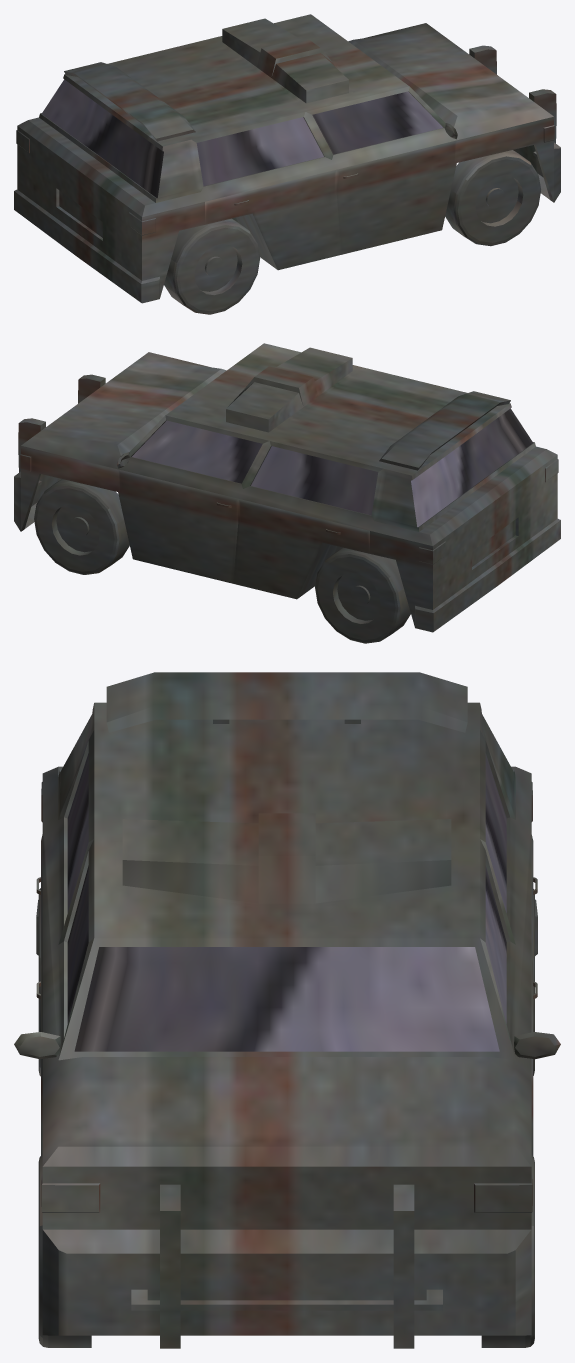
Rendered from Jeep.fbx.
3 views of the same model, one above another, from view 1: azimuth 30°, elevation 25°; view 2: azimuth 150°, elevation 25°; view 3: azimuth 270°, elevation 25° (orthographic). The views are drawn at different scales.
Visible parts, largest first — view 1: Jeep; view 2: Jeep; view 3: Jeep.
Part boxes in pixels (x1,y1,x2,y2): Jeep: (14,14,560,314); Jeep: (14,343,560,643); Jeep: (14,672,560,1348).
Bounding box in the file's own units: 745 × 297 × 403.
